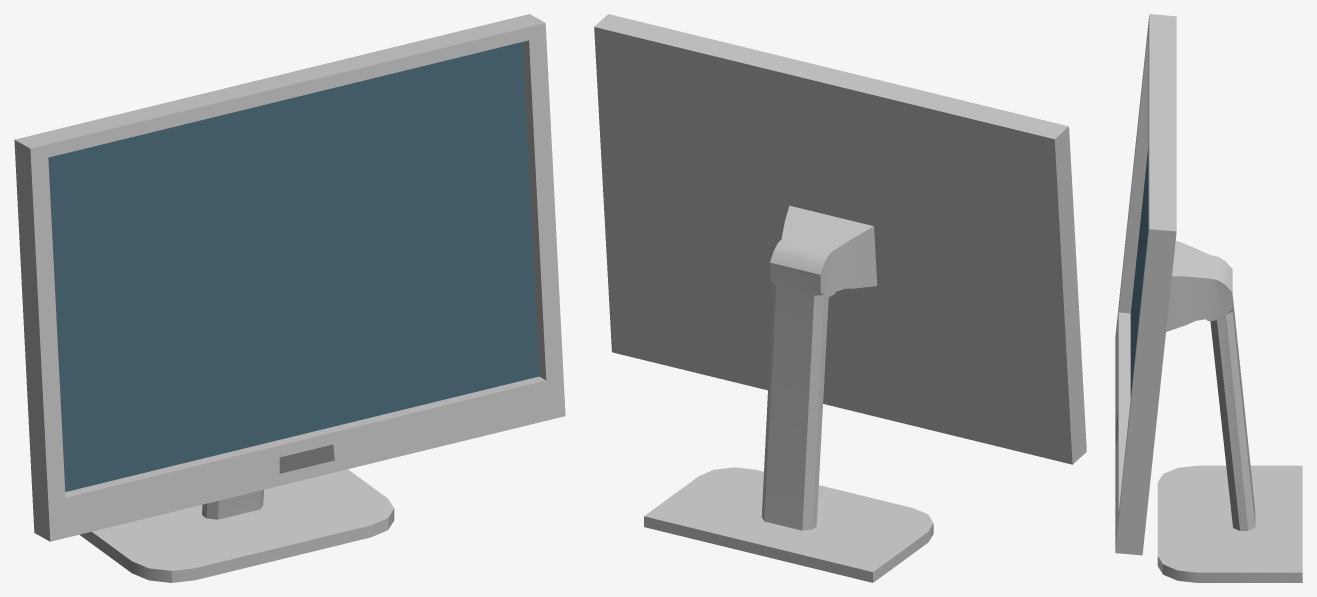
Rendered from pc_monitor.fbx.
3 views of the same model, side by side, from view 1: azimuth 30°, elevation 25°; view 2: azimuth 150°, elevation 25°; view 3: azimuth 270°, elevation 25° (orthographic). The views are drawn at different scales.
Visible parts, largest first — view 1: pc_monitor; view 2: pc_monitor; view 3: pc_monitor.
Boxes of the visible parts, <box> form: pc_monitor: <box>14,14,565,582</box>; pc_monitor: <box>594,14,1086,582</box>; pc_monitor: <box>1115,14,1302,582</box>.
Size of the model in its own units: 83.32 by 73.66 by 30.69.
